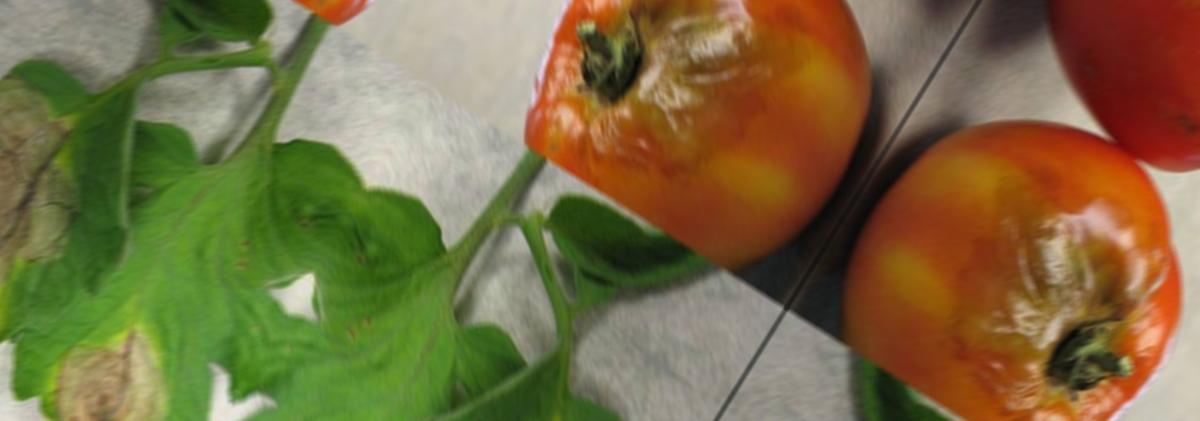Tomato leaf late blight: (122, 143, 580, 421), (247, 283, 708, 421)
